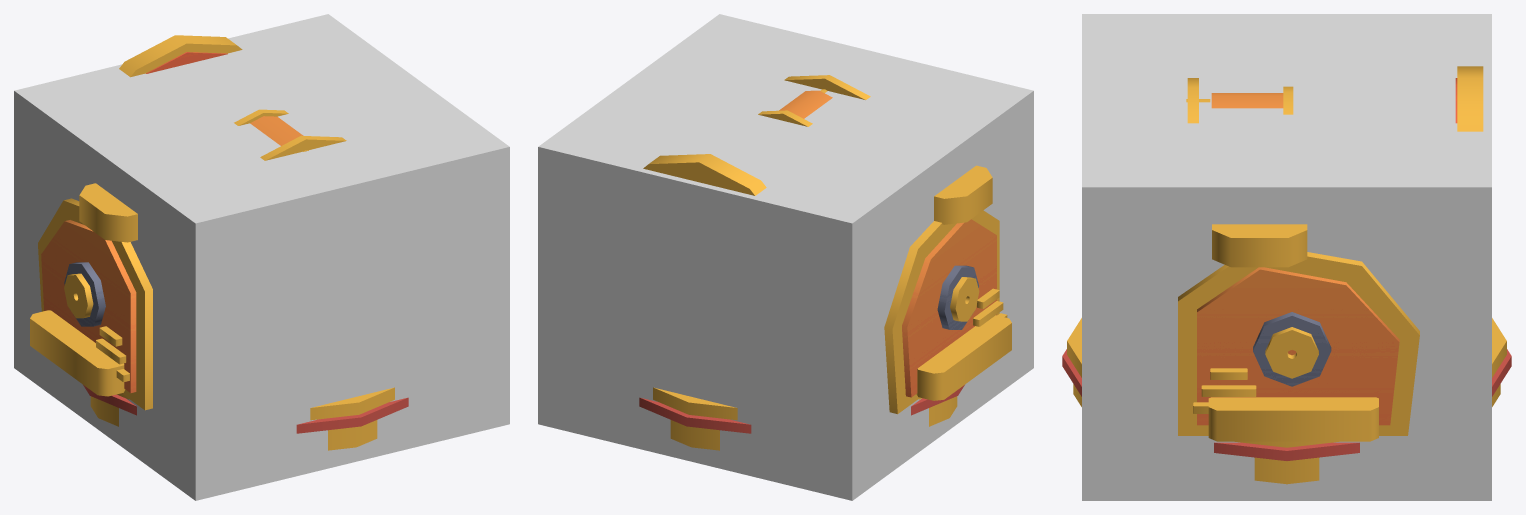
File: cannon.glb
The picture shows the model from 3 angles, left to right: view 1: azimuth 30°, elevation 25°; view 2: azimuth 150°, elevation 25°; view 3: azimuth 270°, elevation 25°; orthographic projection. The views are drawn at different scales.
Parts seen in each view (by area): view 1: COL_BOX_01.002, upgrade_cannon_l3_base, upgrade_cannon_l8_base, upgrade_cannon_l6_base, upgrade_cannon_l8_barrel, upgrade_cannon_l4_base, upgrade_cannon_l2_base, upgrade_cannon_l5_base, upgrade_cannon_l5_barrel, upgrade_cannon_l7_base; view 2: COL_BOX_01.002, upgrade_cannon_l3_base, upgrade_cannon_l6_base, upgrade_cannon_l8_base, upgrade_cannon_l8_barrel, upgrade_cannon_l4_base, upgrade_cannon_l2_base, upgrade_cannon_l5_base, upgrade_cannon_l5_barrel, upgrade_cannon_l6_barrel, upgrade_cannon_l7_base; view 3: COL_BOX_01.002, upgrade_cannon_l3_base, upgrade_cannon_l6_base, upgrade_cannon_l8_base, upgrade_cannon_l4_base, upgrade_cannon_l8_barrel, upgrade_cannon_l2_base, upgrade_cannon_l5_base, upgrade_cannon_l5_barrel, upgrade_cannon_l7_base.
Part boxes in pixels (x1,y1,x2,y2): COL_BOX_01.002: (14, 14, 509, 500); upgrade_cannon_l3_base: (38, 198, 152, 410); upgrade_cannon_l8_base: (79, 183, 408, 433); upgrade_cannon_l6_base: (30, 310, 125, 396); upgrade_cannon_l8_barrel: (119, 35, 346, 160); upgrade_cannon_l4_base: (64, 262, 105, 326); upgrade_cannon_l2_base: (90, 396, 377, 450); upgrade_cannon_l5_base: (117, 387, 394, 420); upgrade_cannon_l5_barrel: (234, 109, 303, 145); upgrade_cannon_l7_base: (96, 326, 129, 381); COL_BOX_01.002: (538, 14, 1033, 500); upgrade_cannon_l3_base: (884, 210, 999, 414); upgrade_cannon_l6_base: (916, 315, 1011, 400); upgrade_cannon_l8_base: (639, 165, 992, 433); upgrade_cannon_l8_barrel: (643, 75, 870, 195); upgrade_cannon_l4_base: (937, 265, 979, 329); upgrade_cannon_l2_base: (670, 396, 957, 450); upgrade_cannon_l5_base: (653, 387, 921, 420); upgrade_cannon_l5_barrel: (758, 90, 832, 126); upgrade_cannon_l6_barrel: (651, 168, 747, 193); upgrade_cannon_l7_base: (973, 288, 1007, 326); COL_BOX_01.002: (1082, 14, 1491, 500); upgrade_cannon_l3_base: (1178, 252, 1419, 435); upgrade_cannon_l6_base: (1208, 397, 1378, 441); upgrade_cannon_l8_base: (1062, 224, 1511, 460); upgrade_cannon_l4_base: (1253, 312, 1331, 386); upgrade_cannon_l8_barrel: (1187, 66, 1483, 131); upgrade_cannon_l2_base: (1073, 384, 1500, 484); upgrade_cannon_l5_base: (1067, 318, 1506, 447); upgrade_cannon_l5_barrel: (1211, 86, 1293, 114); upgrade_cannon_l7_base: (1193, 368, 1256, 413).
Size of the model in its own units: 1.49 by 1.09 by 1.32.
Materials: 3 (3 with a texture image).
